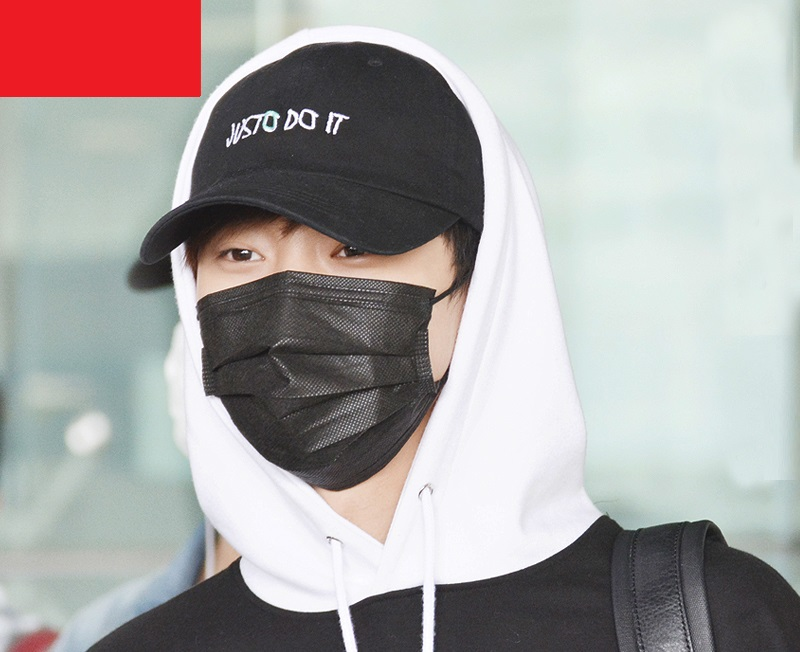face_mask: (194, 152, 440, 484)
